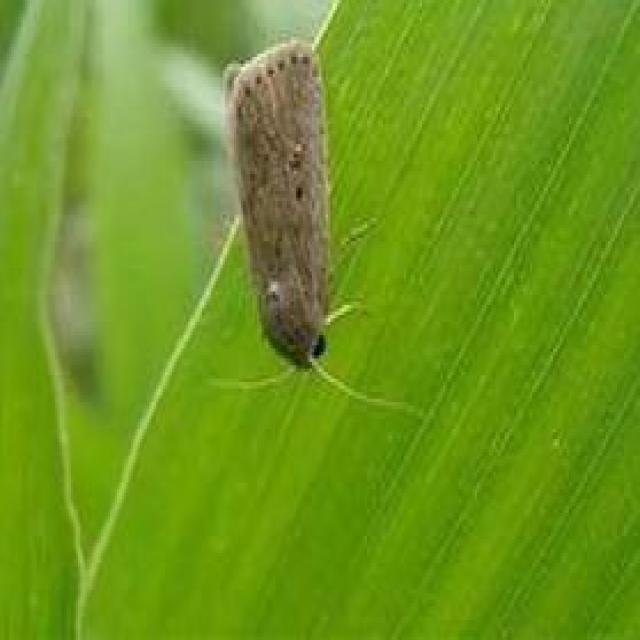BeetArmyWorm-Adult-: (187, 22, 366, 390)
